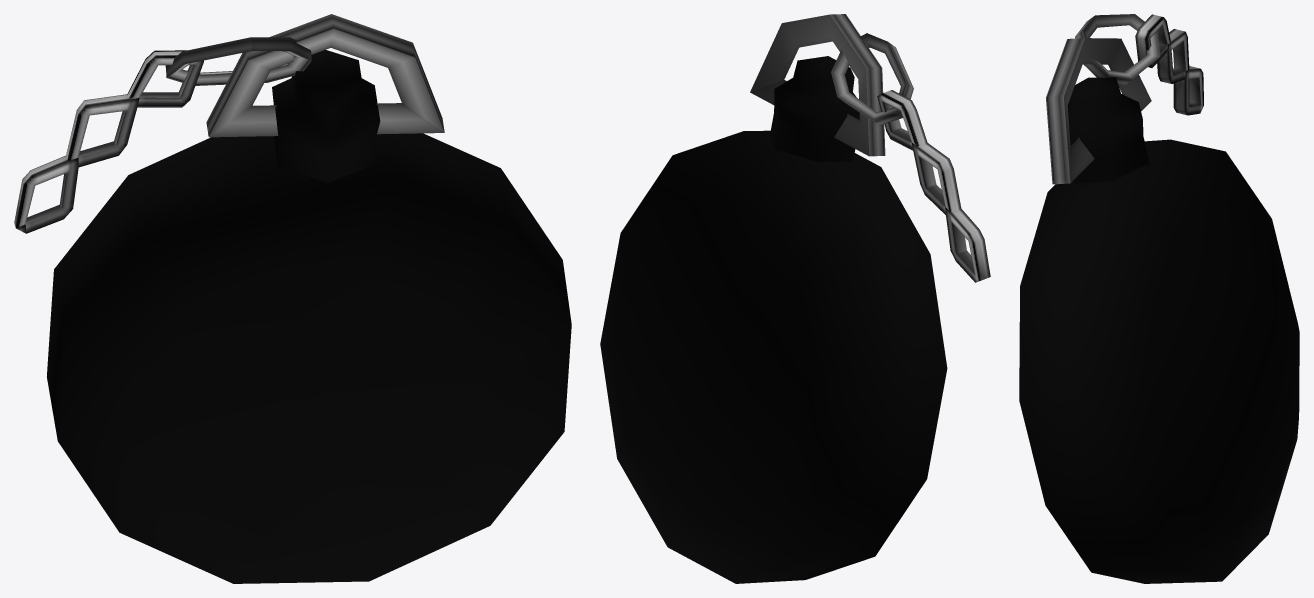
File: hagane.ico.obj
3 renders of one model, left to right at view 1: azimuth 30°, elevation 25°; view 2: azimuth 150°, elevation 25°; view 3: azimuth 270°, elevation 25°, orthographic. The views are drawn at different scales.
Size of the model in its own units: 4.1 by 4.8 by 2.37.
1 material, 1 textured.
